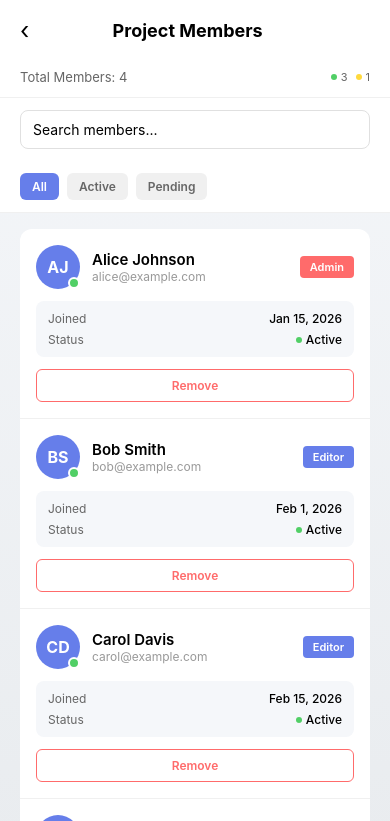
Test case: ProjectMembersScreen › Search Functionality › should show no results message when search has no matches
The image size is (390, 821).
Type "NonExistent" into the field with placeholder "Search members...".
click(195, 130); type("NonExistent")  # box [20,110,370,149]
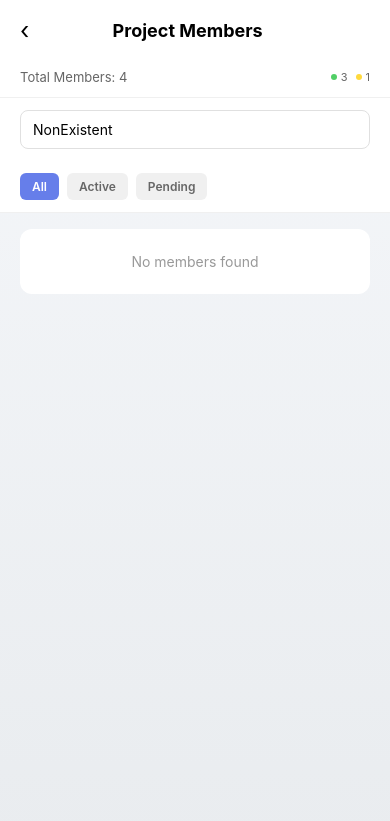
Expected: the text "No members found" is shown, [131,253,259,270]
